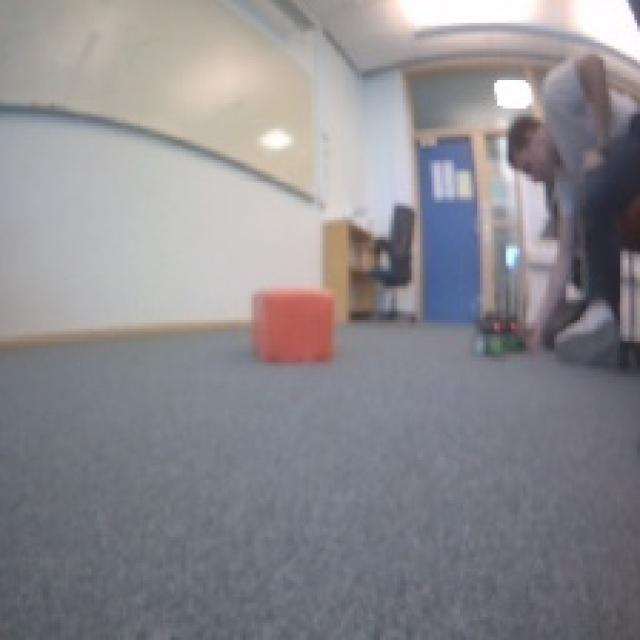robot: (468, 310, 505, 360), (498, 311, 532, 358)
target: (249, 283, 334, 363)
